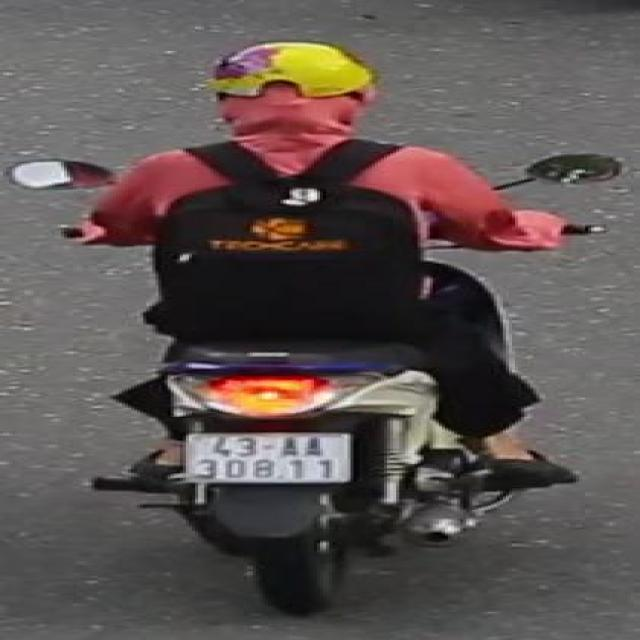LP: (181, 426, 355, 487)
helmet: (193, 35, 394, 152)
